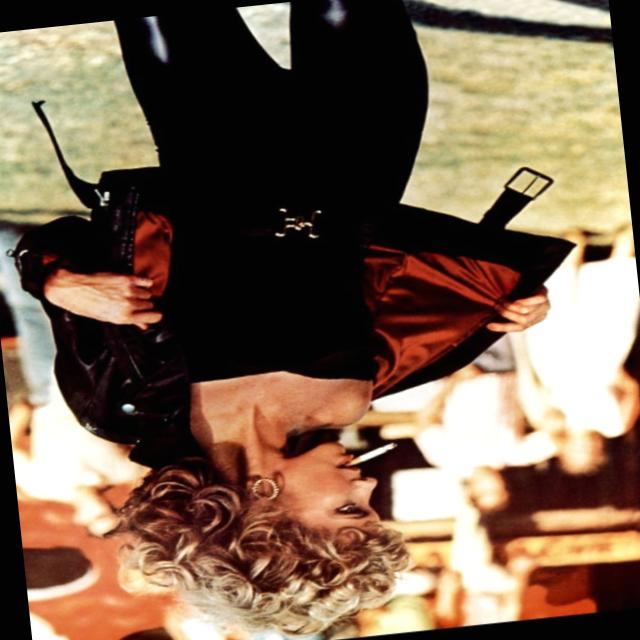smoke: (343, 436, 398, 472)
